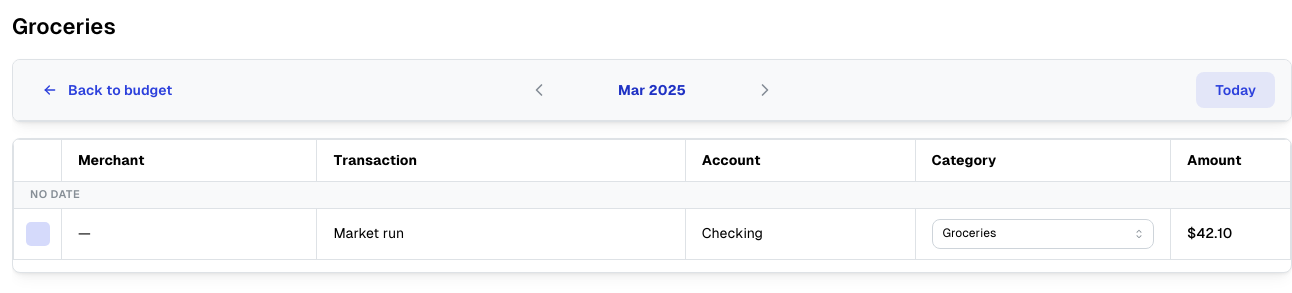
CategoryTransactions › moves a transaction out of the table when its category changes
Click the field named "Category for Market run": (1043, 234) [932,219,1154,249]
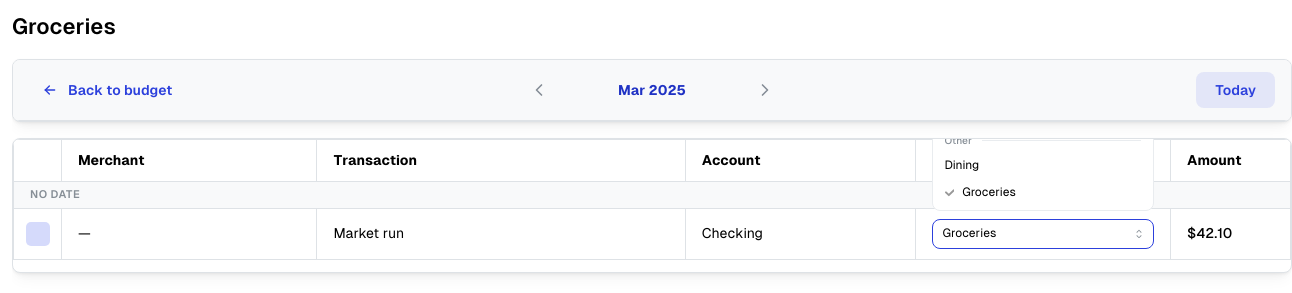
Click the option "Dining": (962, 166) [945,158,979,172]
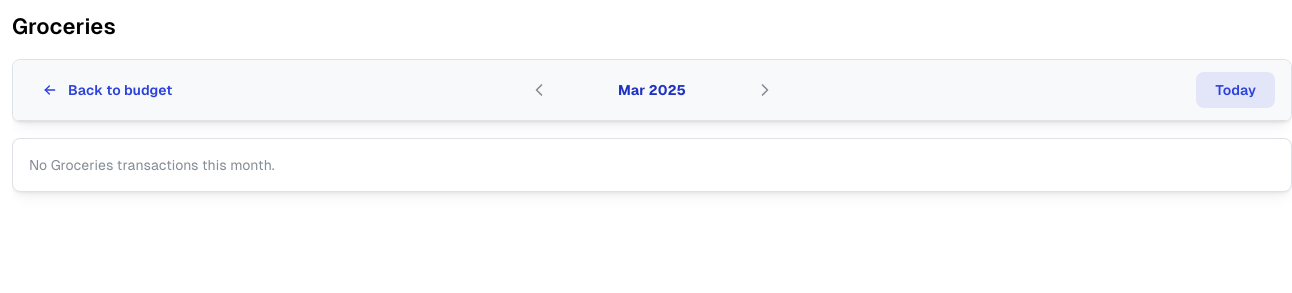
Now the text "No Groceries transactions this month." is shown, box [29,157,275,173]
